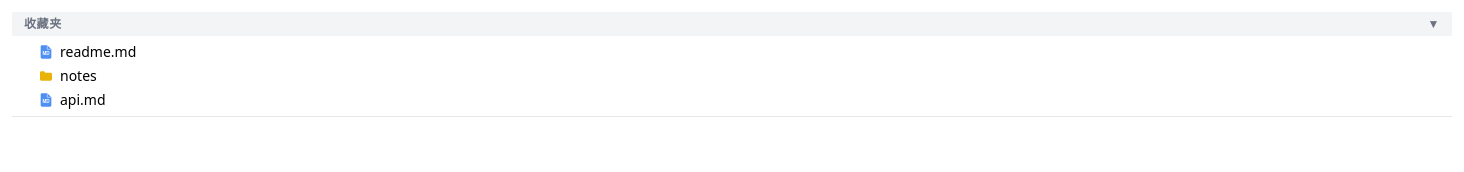
it: Favorites › 右键收藏项应显示「从收藏夹移除」菜单项
This screenshot has width=1464, height=172.
Step 1. Right-click the text "readme.md" → point(98, 52), box [60,42,136,62]
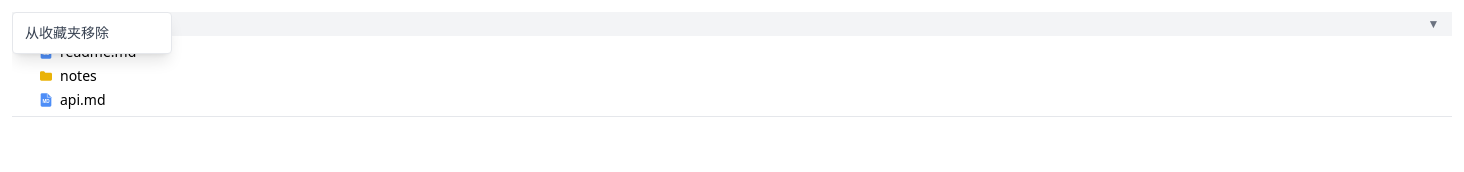
Now the menu item "从收藏夹移除" is shown, box [13,17,171,49]
